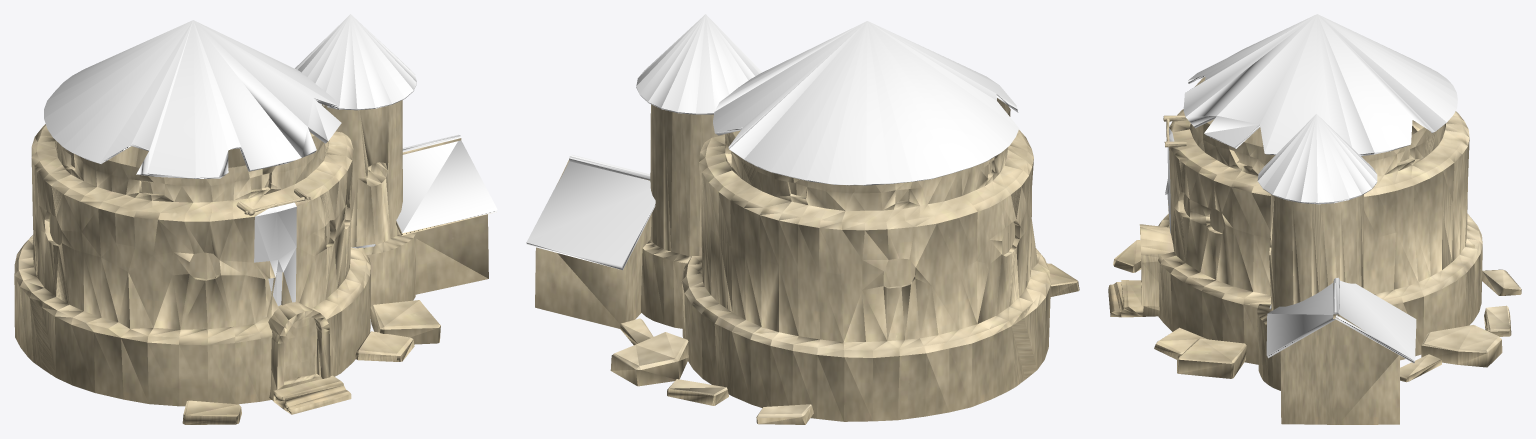
3 views of the same model, side by side, from view 1: azimuth 30°, elevation 25°; view 2: azimuth 150°, elevation 25°; view 3: azimuth 270°, elevation 25° (orthographic). The views are drawn at different scales.
Parts seen in each view (by area): view 1: castle_d1.5; view 2: castle_d1.5; view 3: castle_d1.5.
Boxes of the visible parts, bbox=[...] form: castle_d1.5: bbox=[14, 14, 497, 424]; castle_d1.5: bbox=[526, 14, 1079, 424]; castle_d1.5: bbox=[1108, 14, 1521, 424].
Bounding box in the file's own units: 2.9 × 2.03 × 2.64.
Materials: 2 (1 with a texture image).
